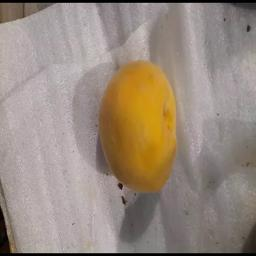Peach Fresh: (83, 40, 189, 196)
